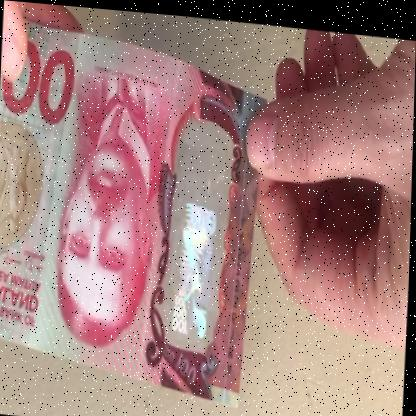100F: (170, 158, 227, 338)
